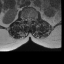CCS_normal: (28, 16, 30, 24)
LFS_normal: (33, 15, 35, 22)
LLS_normal: (30, 15, 33, 23)
RFS_normal: (24, 15, 26, 22)
RLS_normal: (26, 16, 28, 23)
